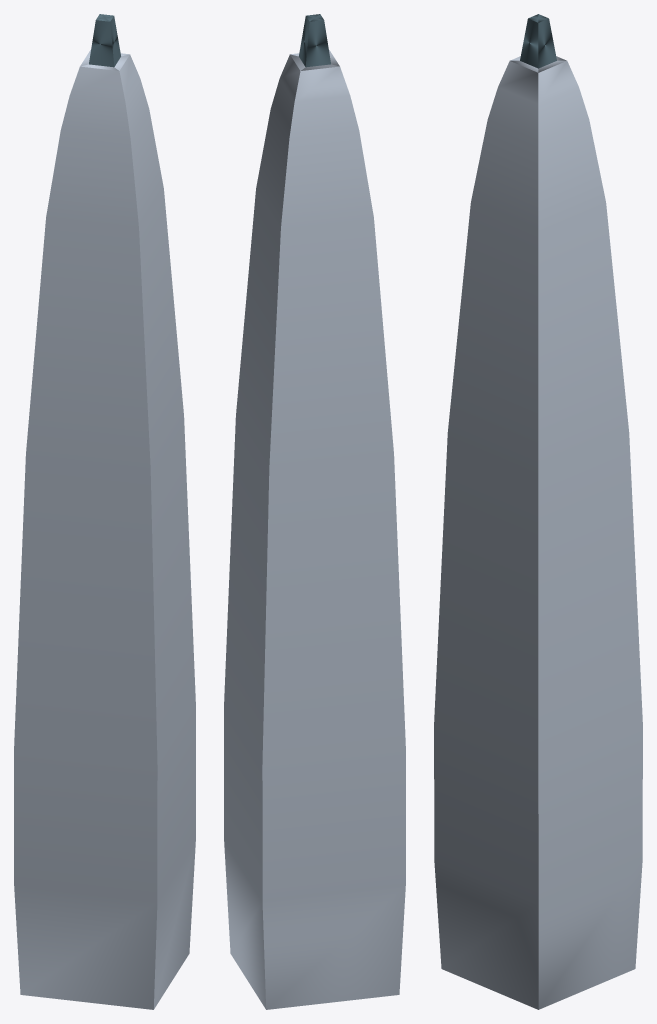
The model's file is Skyscraper1.fbx.
3 views of the same model, side by side, from view 1: azimuth 30°, elevation 25°; view 2: azimuth 150°, elevation 25°; view 3: azimuth 270°, elevation 25° (orthographic).
Parts seen in each view (by area): view 1: skyscraper2; view 2: skyscraper2; view 3: skyscraper2.
Part boxes in pixels (left/top/right/bottom): skyscraper2: left=14, top=14, right=195, bottom=1009; skyscraper2: left=224, top=14, right=405, bottom=1009; skyscraper2: left=434, top=14, right=642, bottom=1009.
Size of the model in its own units: 92.78 by 466 by 92.78.
